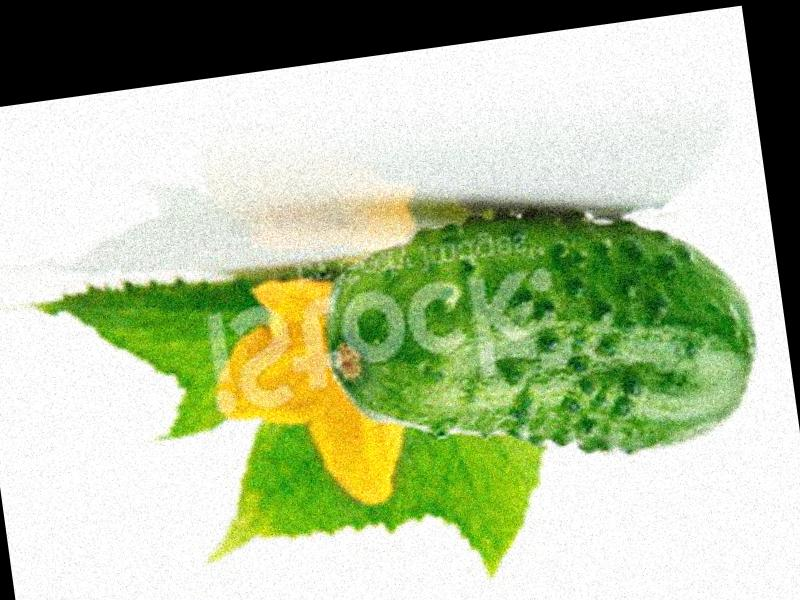Cucumber: (319, 184, 768, 490)
